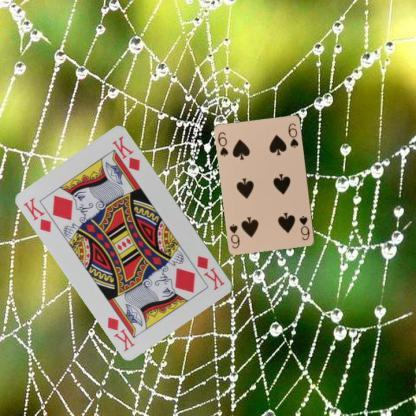6s: (297, 213, 311, 242), (216, 129, 230, 158)
Kd: (21, 195, 53, 234), (194, 254, 226, 291)
